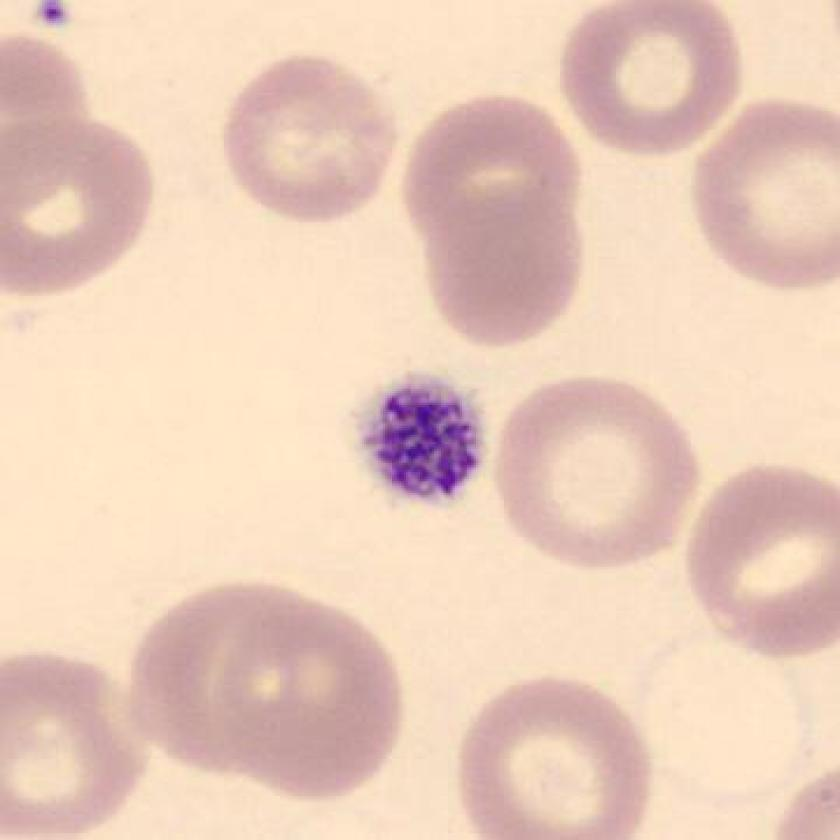platelets: (346, 357, 498, 515)
